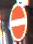No entry: (6, 5, 28, 39)
